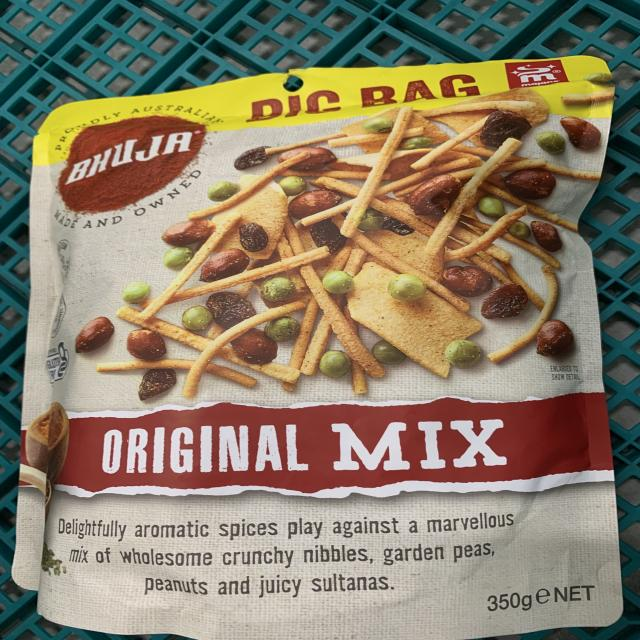object_name: (30, 82, 618, 636)
